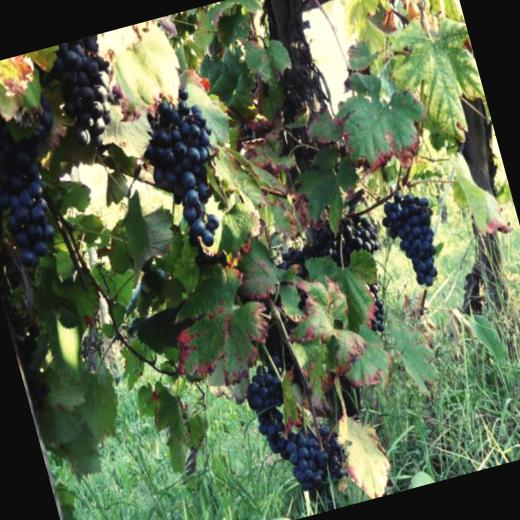Orange: (262, 196, 400, 352), (131, 84, 239, 254), (238, 348, 354, 500), (0, 108, 87, 267), (35, 34, 129, 160), (376, 182, 449, 294), (246, 132, 253, 140), (244, 124, 250, 132), (242, 142, 248, 149)
